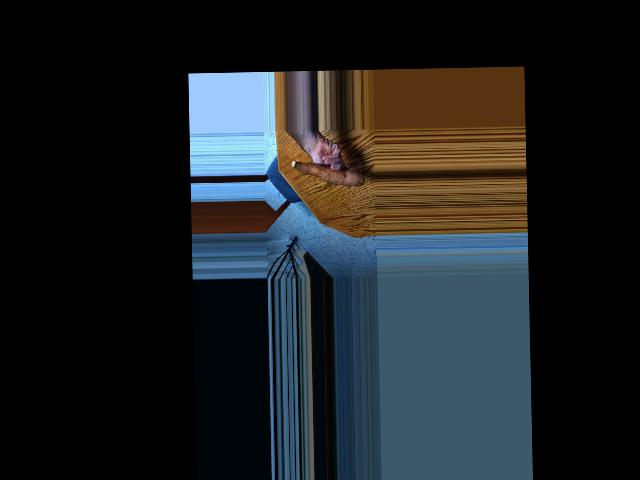sweet_potato: (290, 156, 362, 189)
